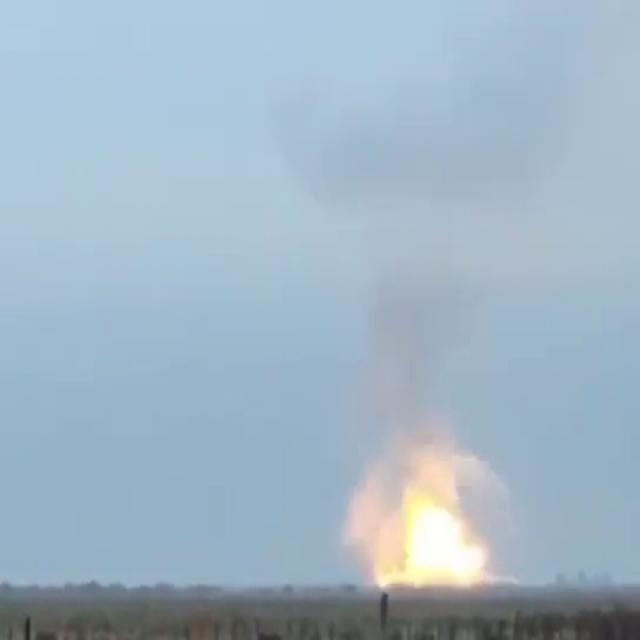Fire: (374, 461, 502, 590)
